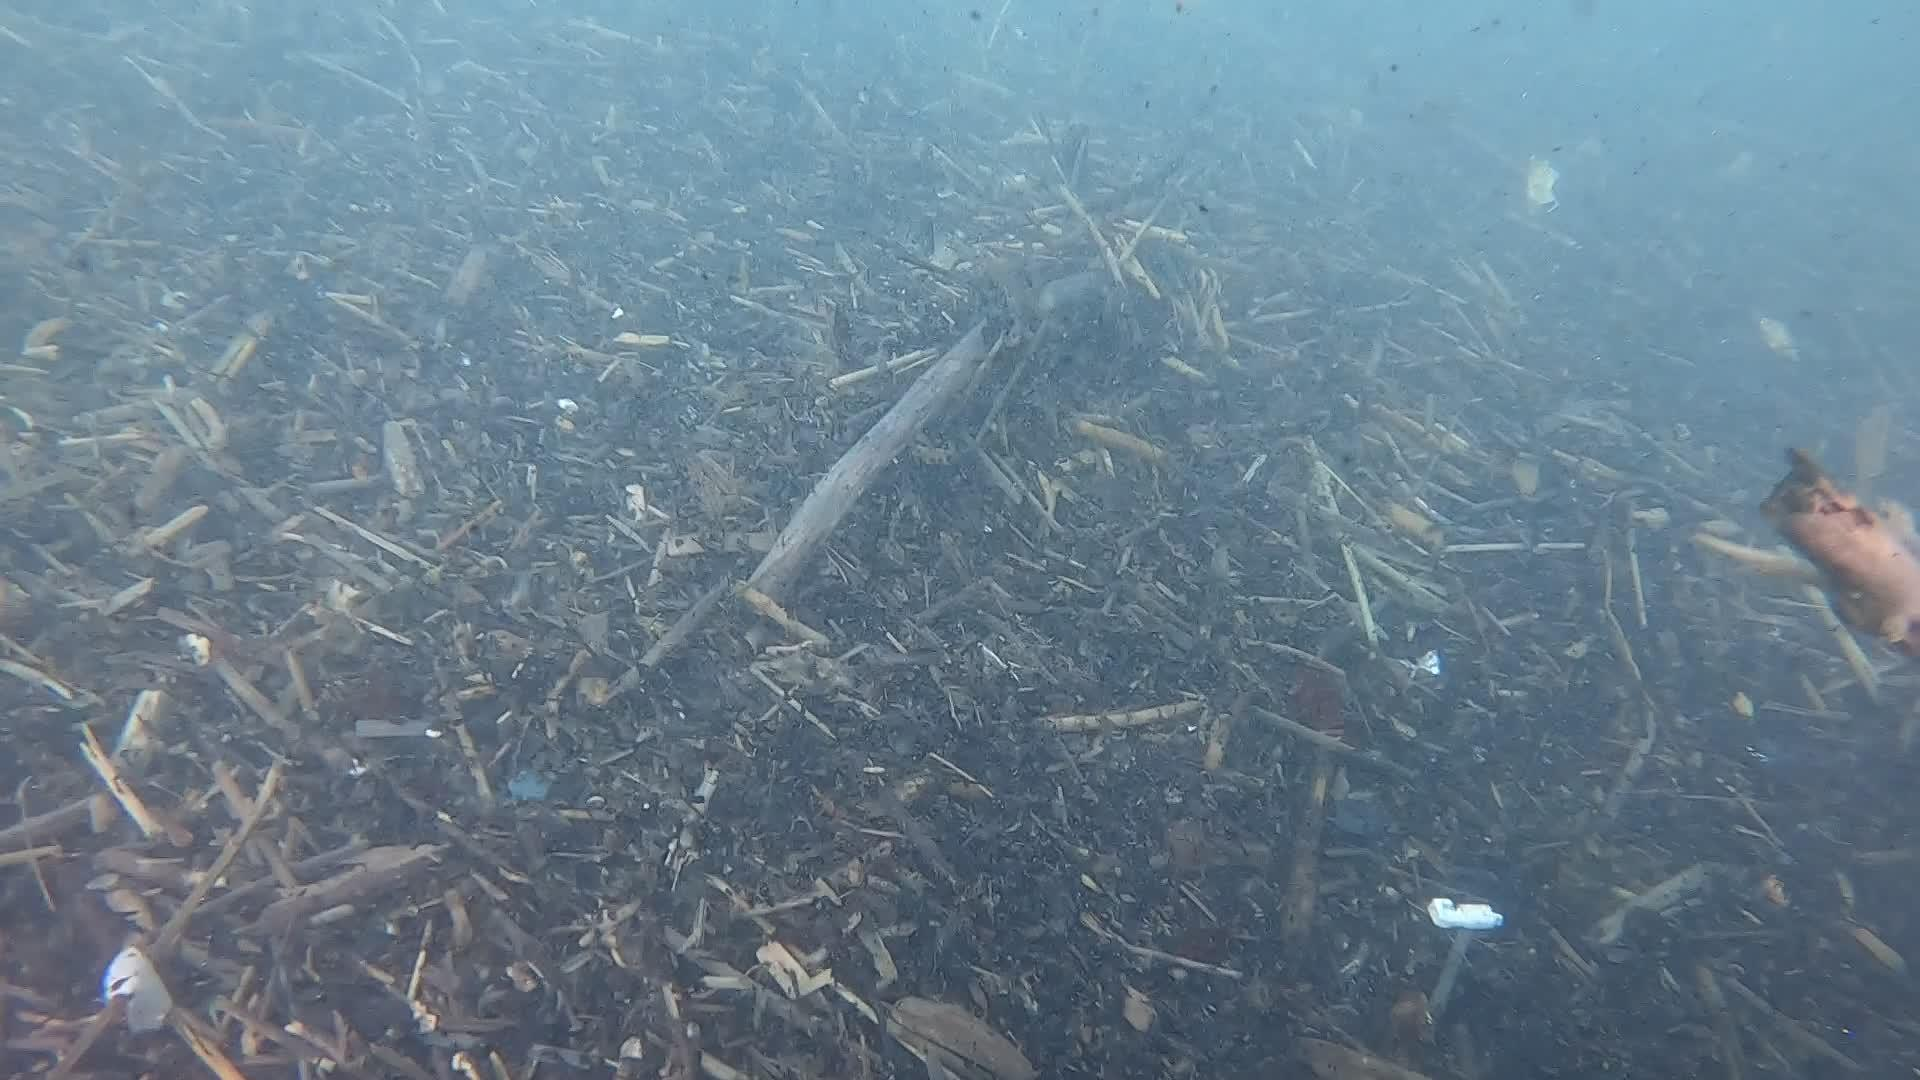wood: (750, 305, 994, 596)
